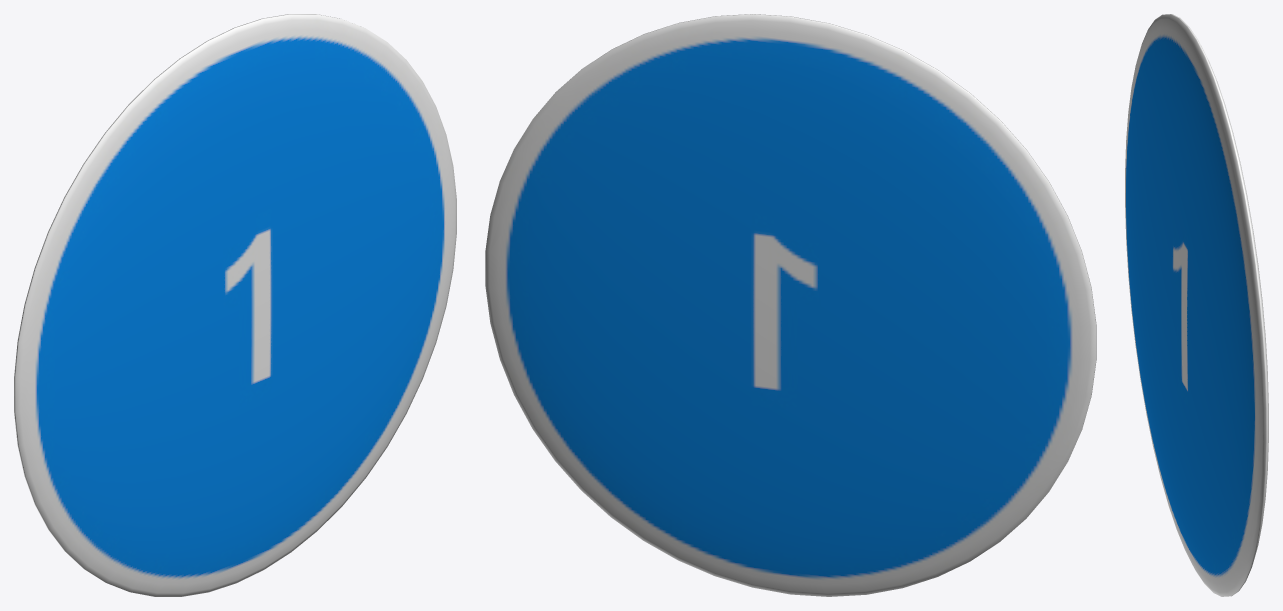
Rendered from anniu1.FBX.
The picture shows the model from 3 angles, left to right: view 1: azimuth 30°, elevation 25°; view 2: azimuth 150°, elevation 25°; view 3: azimuth 270°, elevation 25°; orthographic projection. The views are drawn at different scales.
Visible parts, largest first — view 1: Sphere001; view 2: Sphere001; view 3: Sphere001.
Part boxes in pixels (x1,y1,x2,y2): Sphere001: (14,14,456,596); Sphere001: (485,14,1096,596); Sphere001: (1125,14,1268,596).
Bounding box in the file's own units: 10.65 × 10.98 × 2.69.
1 material, 1 textured.
